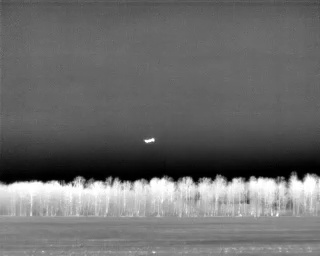DRONE: (140, 133, 159, 148)
